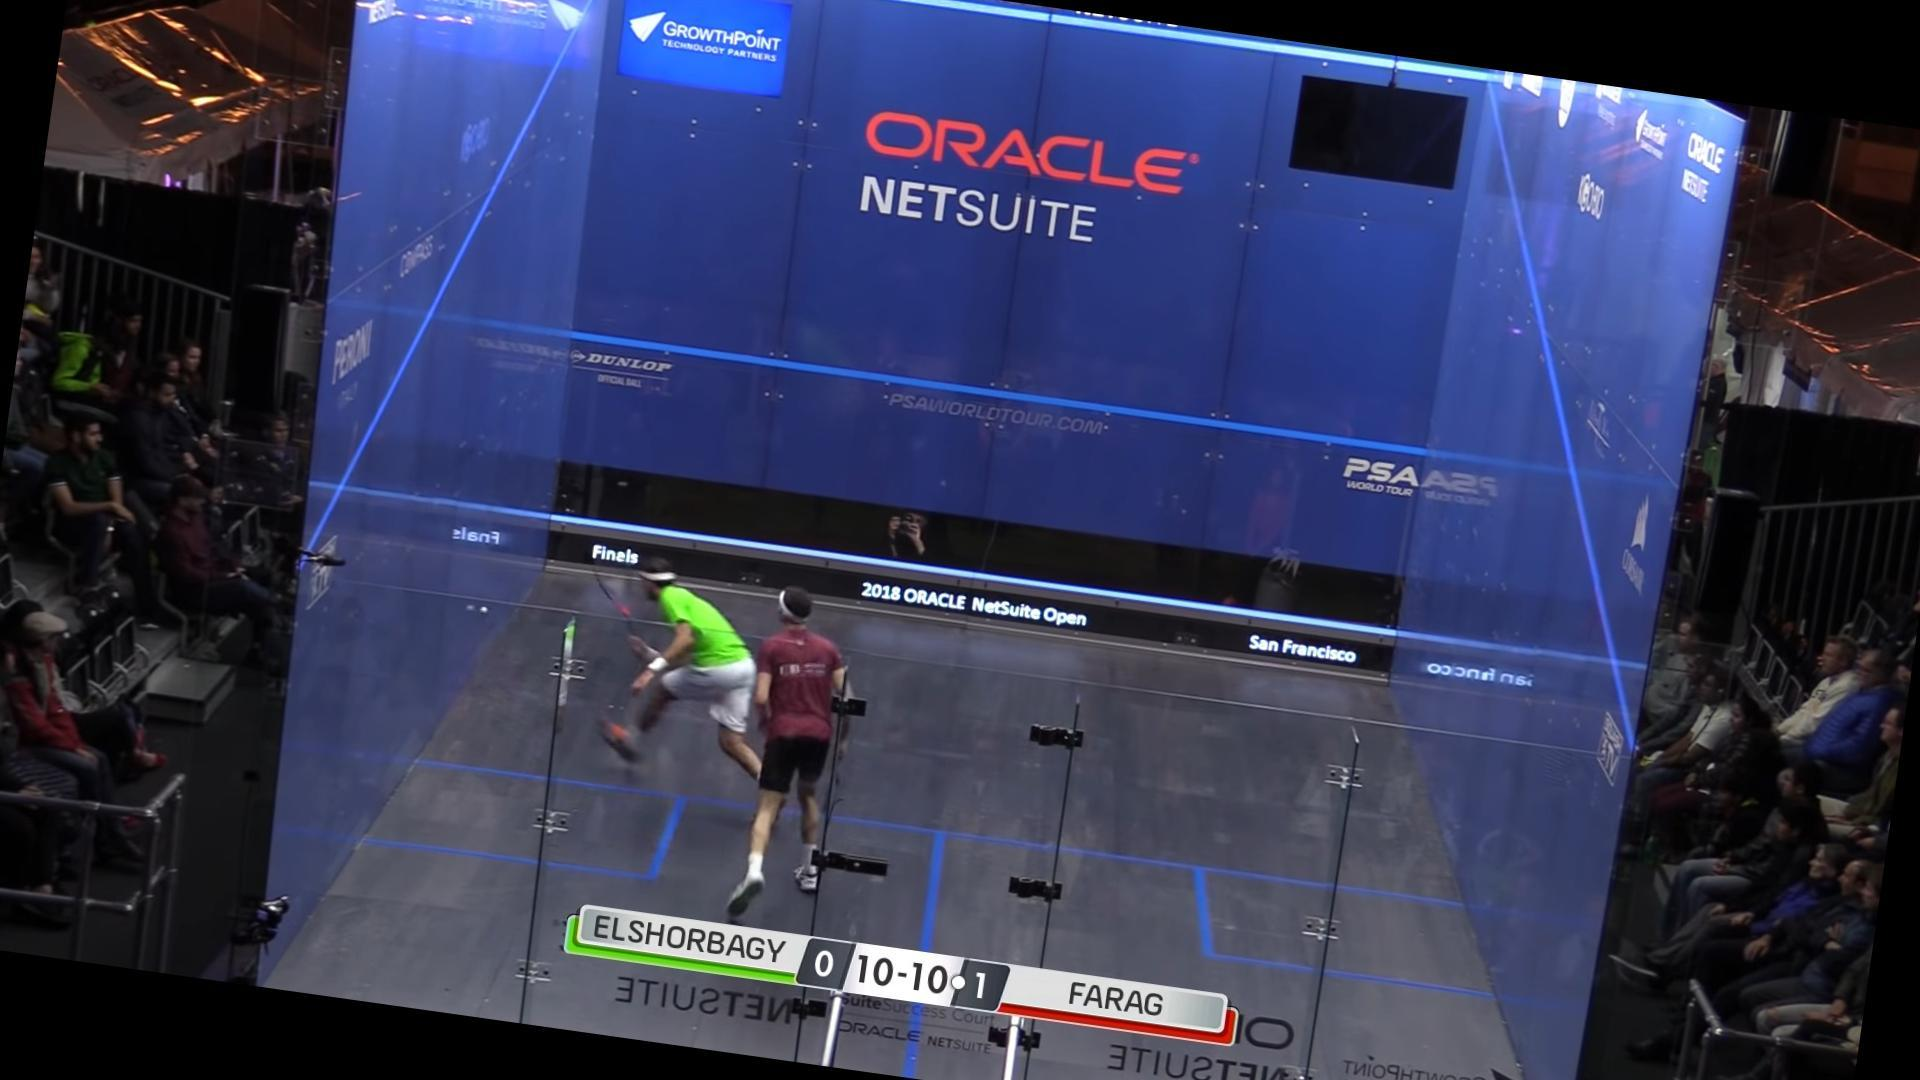Squash-Ball: (476, 596, 493, 624)
